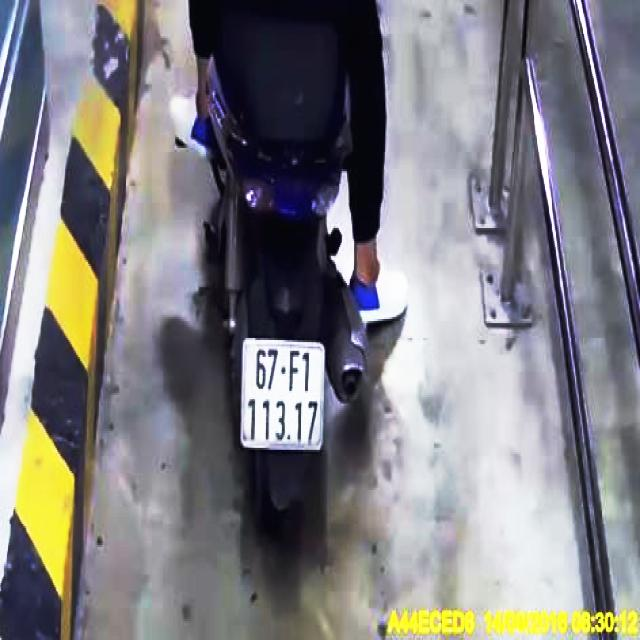license_plate: (242, 341, 324, 450)
